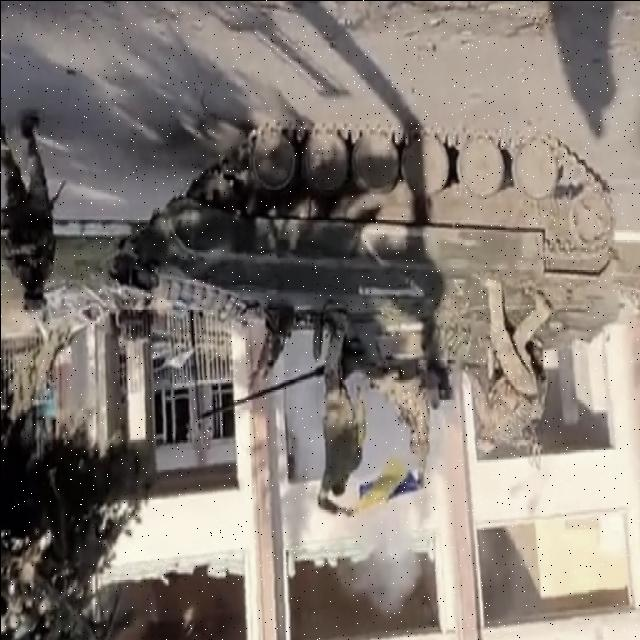APC-IFV: (127, 120, 615, 447)
